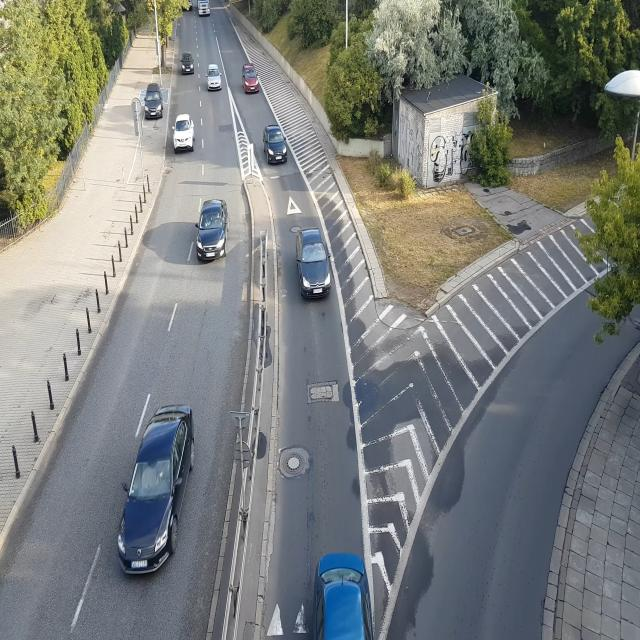car: (116, 388, 205, 588), (312, 548, 378, 640), (296, 228, 333, 298), (195, 199, 229, 260), (263, 122, 289, 164), (173, 114, 196, 152), (179, 46, 200, 84), (143, 89, 165, 119), (241, 70, 260, 93), (207, 62, 222, 90), (208, 75, 224, 92)
truck: (198, 2, 210, 16)
